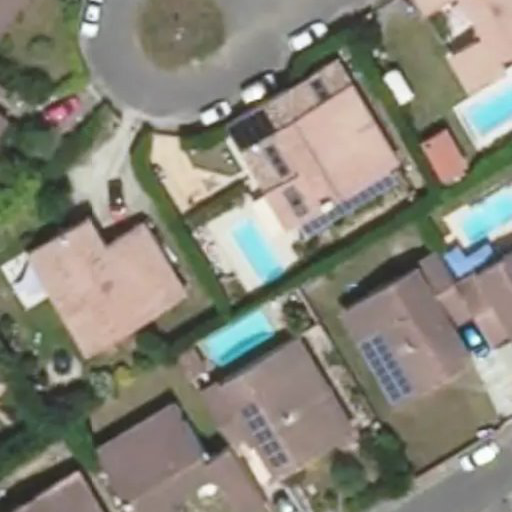pool: (228, 221, 284, 263)
